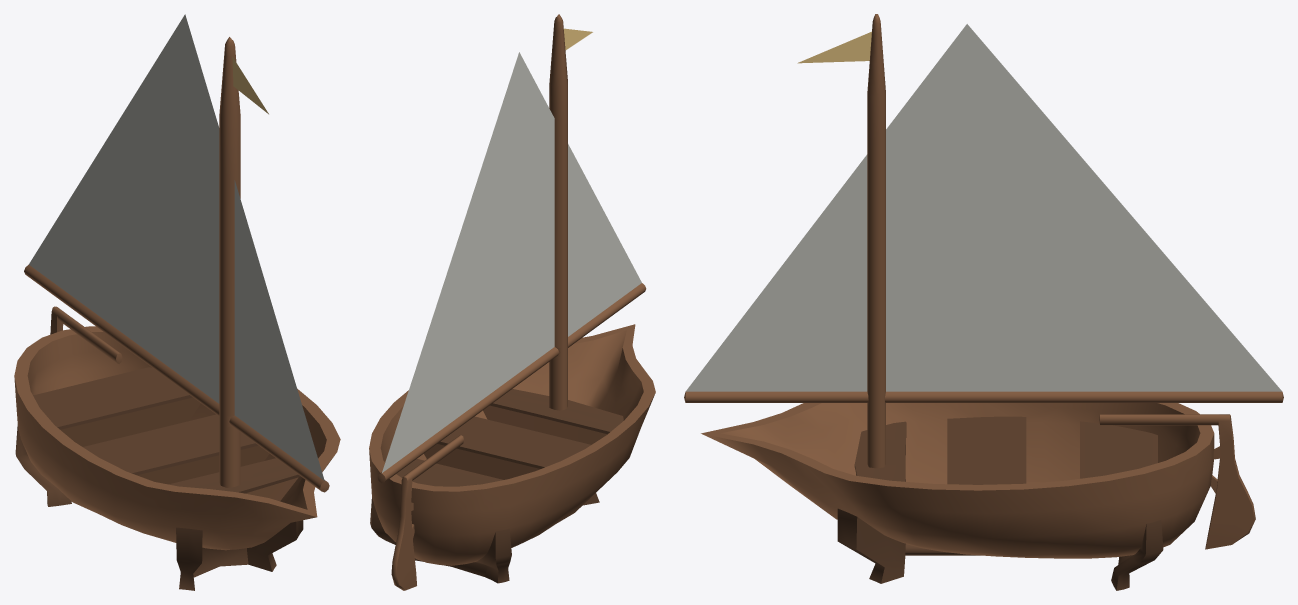
Rendered from 076_boat_mockup.glb.
3 views of the same model, side by side, from view 1: azimuth 30°, elevation 25°; view 2: azimuth 150°, elevation 25°; view 3: azimuth 270°, elevation 25° (orthographic). The views are drawn at different scales.
Visible parts, largest first — view 1: hull, sail, bracket, tiller; view 2: hull, sail, tiller, bracket; view 3: hull, sail, tiller, bracket.
Part boxes in pixels (x1=…): hull: x1=14, y1=14, x2=340, y2=550; sail: x1=29, y1=15, x2=321, y2=473; bracket: x1=15, y1=424, x2=303, y2=590; tiller: x1=50, y1=306, x2=122, y2=363; hull: x1=369, y1=14, x2=655, y2=565; sail: x1=382, y1=53, x2=640, y2=472; tiller: x1=391, y1=435, x2=463, y2=590; bracket: x1=370, y1=493, x2=599, y2=583; hull: x1=684, y1=14, x2=1283, y2=558; sail: x1=687, y1=24, x2=1281, y2=391; tiller: x1=1099, y1=414, x2=1255, y2=549; bracket: x1=837, y1=508, x2=1163, y2=590.
Bounding box in the file's own units: 0.677 × 1.5 × 1.5.
